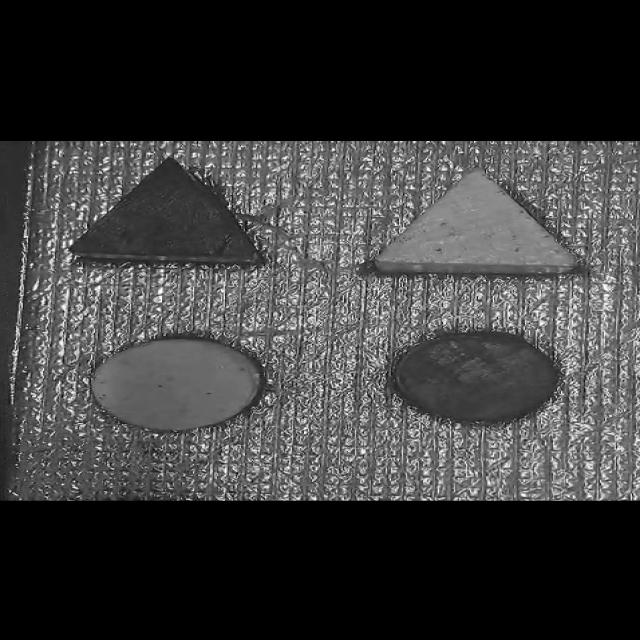btriangle: (69, 148, 269, 282)
rcircle: (373, 329, 576, 439)
ycircle: (73, 334, 330, 454)
ytriangle: (346, 152, 590, 305)
